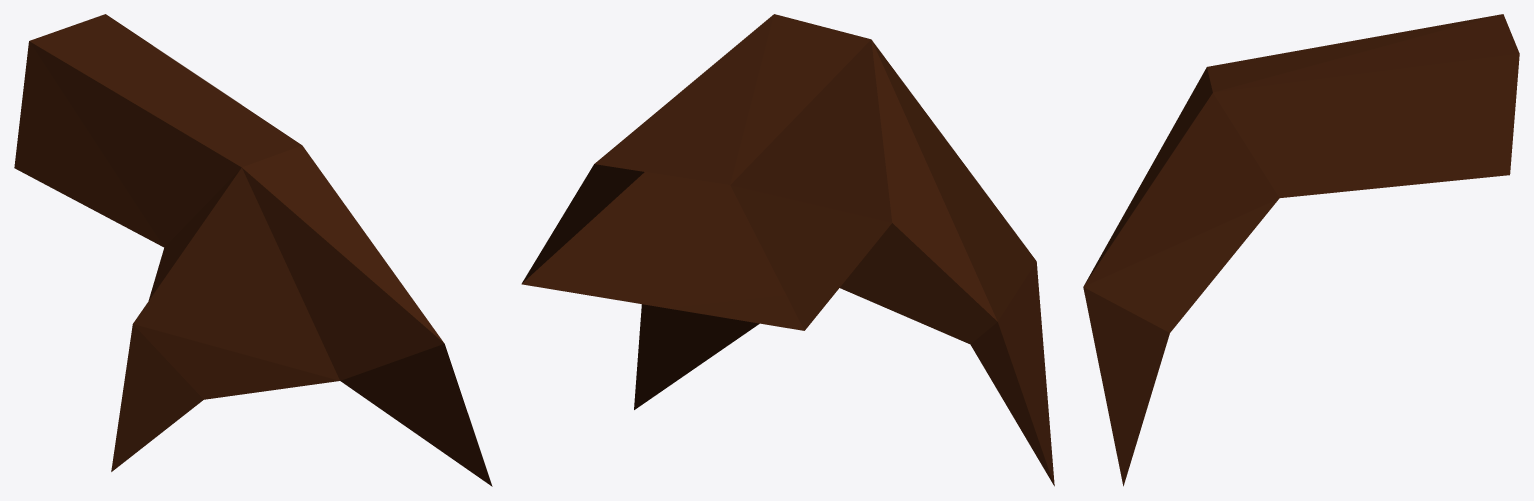
Rendered from 2D_Ground_Decals_Root2.fbx.
3 views of the same model, side by side, from view 1: azimuth 30°, elevation 25°; view 2: azimuth 150°, elevation 25°; view 3: azimuth 270°, elevation 25° (orthographic). The views are drawn at different scales.
Parts seen in each view (by area): view 1: 2D_Ground_Decals_Root2; view 2: 2D_Ground_Decals_Root2; view 3: 2D_Ground_Decals_Root2.
Boxes of the visible parts, bbox=[...] form: 2D_Ground_Decals_Root2: bbox=[14, 14, 492, 486]; 2D_Ground_Decals_Root2: bbox=[521, 14, 1054, 486]; 2D_Ground_Decals_Root2: bbox=[1083, 14, 1519, 486].
Size of the model in its own units: 64.1 by 66.65 by 75.48.
